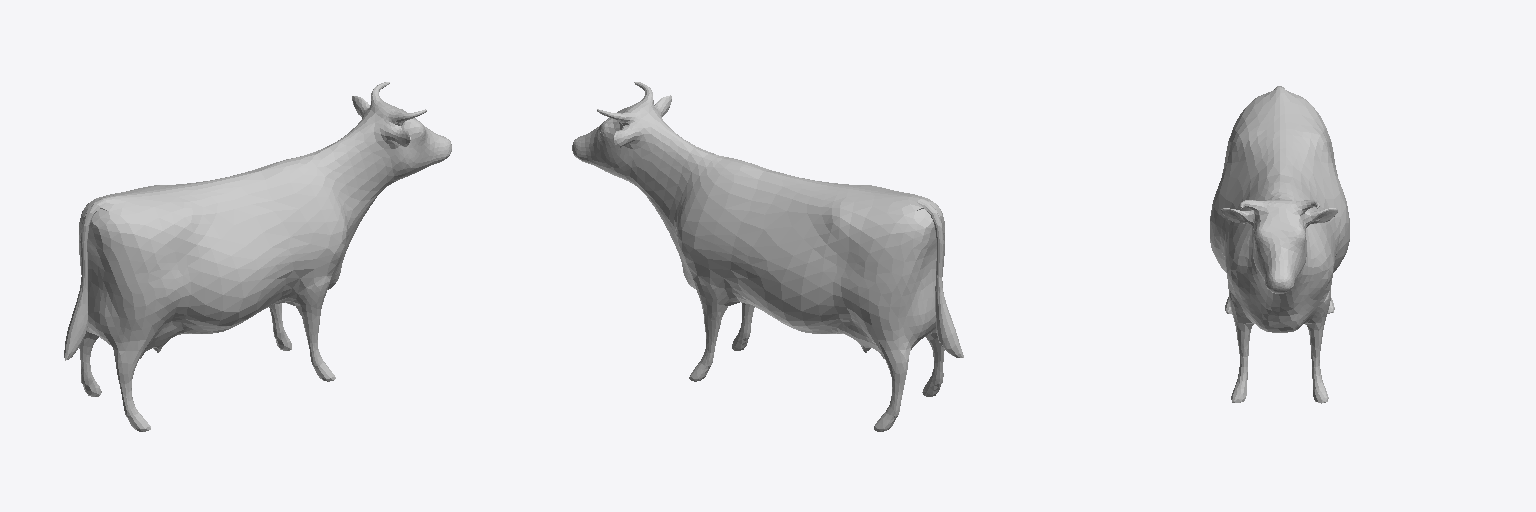
File: cow.obj
3 renders of one model, left to right at view 1: azimuth 30°, elevation 25°; view 2: azimuth 150°, elevation 25°; view 3: azimuth 270°, elevation 25°, orthographic.
Visible parts, largest first — view 1: cow; view 2: cow; view 3: cow.
Part boxes in pixels (left/top/right/bottom): cow: left=64, top=82, right=451, bottom=431; cow: left=572, top=82, right=963, bottom=431; cow: left=1210, top=86, right=1349, bottom=403.
Bounding box in the file's own units: 10.34 × 6.3 × 3.25.